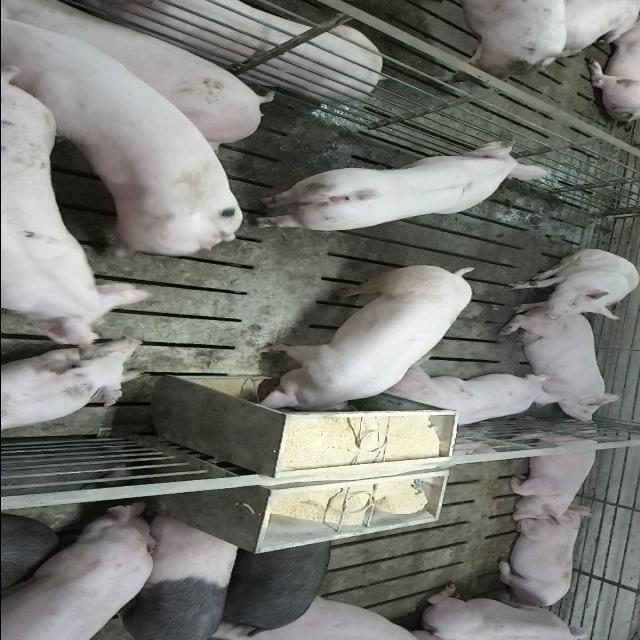Feeding: (245, 269, 475, 421)
Lateral_lying: (46, 0, 384, 102)
Sitting: (503, 249, 638, 320)
Standing: (1, 9, 250, 260), (254, 138, 558, 234), (0, 499, 164, 638), (90, 510, 240, 638), (215, 535, 336, 637)
Sternal_lying: (2, 340, 148, 437), (504, 314, 628, 424), (379, 370, 559, 431), (503, 425, 603, 524), (415, 584, 601, 637), (491, 510, 588, 610)
